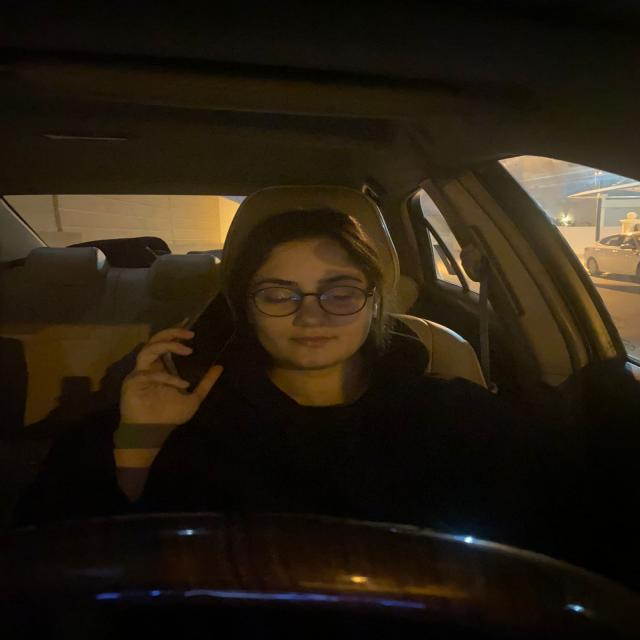mobile: (158, 279, 238, 393)
person: (230, 196, 398, 383)
